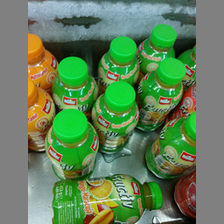juice: (52, 174, 162, 224), (43, 107, 101, 181), (134, 58, 186, 133), (92, 81, 140, 157), (145, 112, 195, 178)
